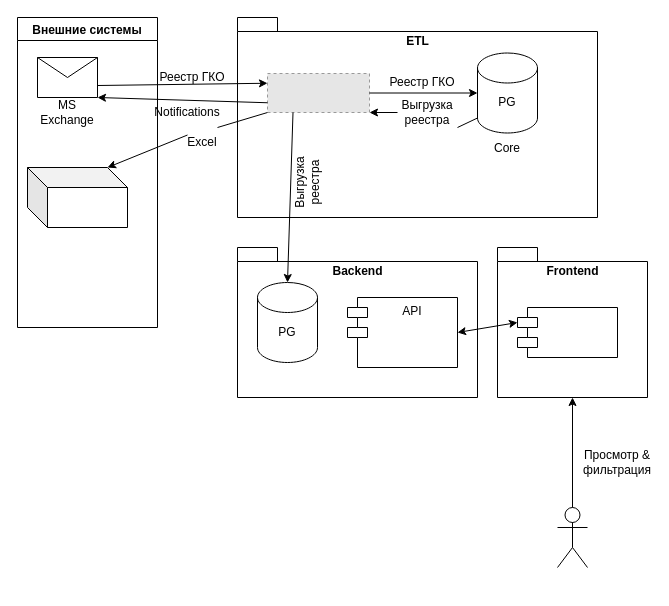
Image size: 669x606. Some labels were removed from this diagram. Grey dashed boxes stand in for pictures. Here are the shapes that lost their labels. From the top down, the centre of each, then its label:
the point at 77,197: Samba
the point at 567,332: VueJS
the point at 572,537: Actor
